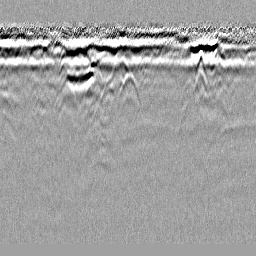cavity: (117, 71, 142, 108)
